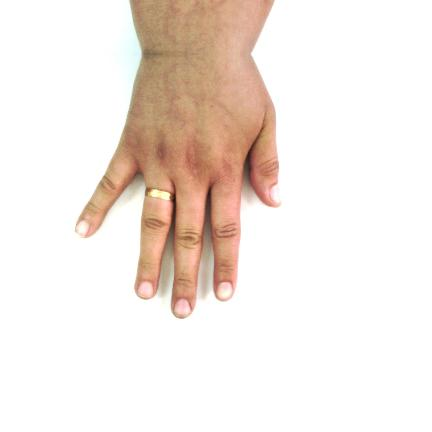Nail: (173, 299, 191, 318), (216, 282, 234, 301), (137, 282, 153, 299), (269, 184, 282, 204), (75, 220, 89, 237)
